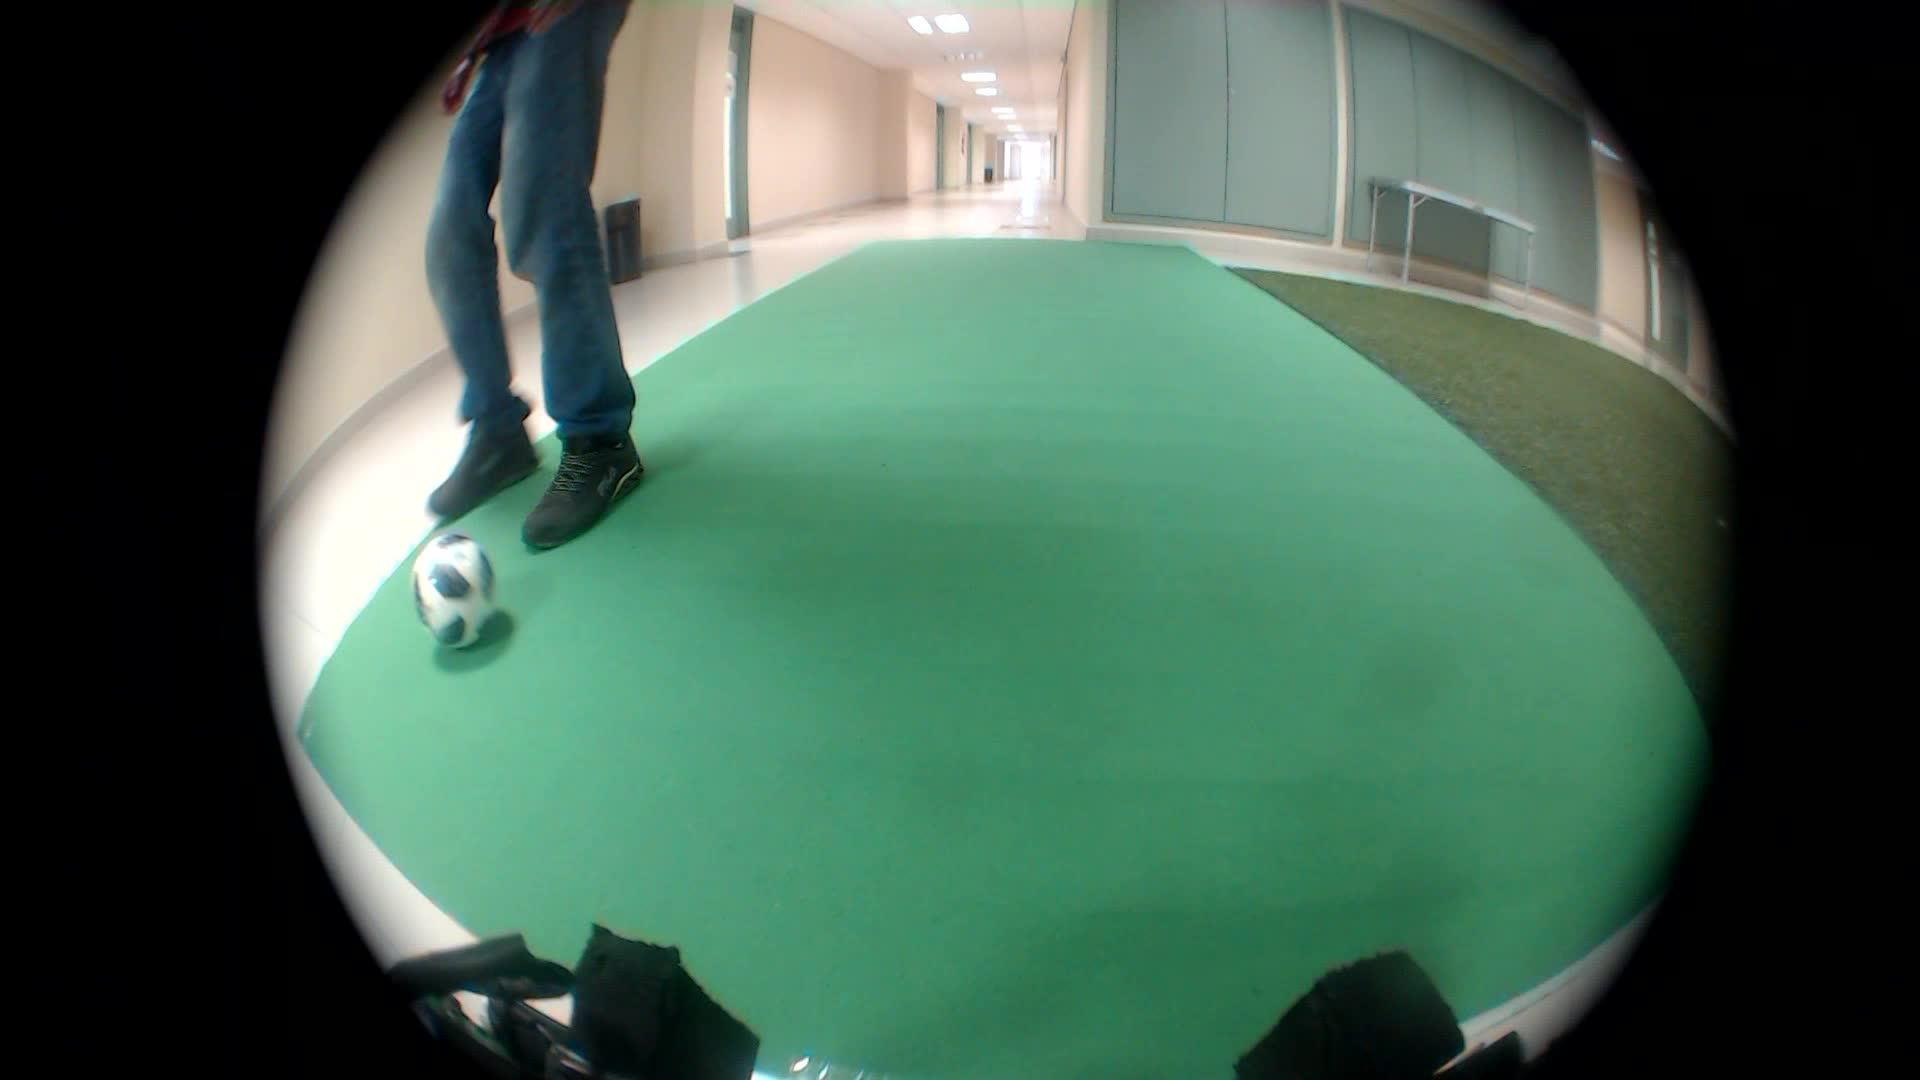ball: (400, 517, 516, 655)
